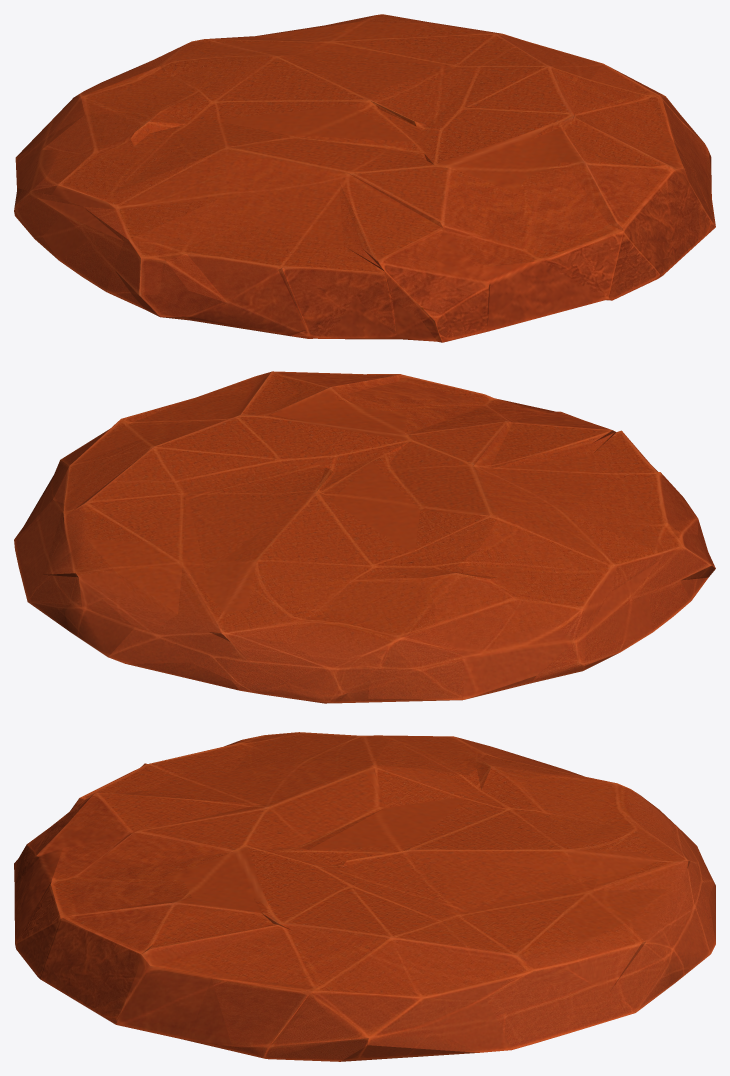
File: desert_small_3.glb
3 views of the same model, one above another, from view 1: azimuth 30°, elevation 25°; view 2: azimuth 150°, elevation 25°; view 3: azimuth 270°, elevation 25° (orthographic). The views are drawn at different scales.
Visible parts, largest first — view 1: output_unwrapped; view 2: output_unwrapped; view 3: output_unwrapped.
Boxes of the visible parts, x1,y1,x2,y2 form: output_unwrapped: (14,14,715,342); output_unwrapped: (14,371,715,703); output_unwrapped: (14,732,715,1061).
Size of the model in its own units: 1.9 by 0.2293 by 1.88.
1 material, 1 textured.
